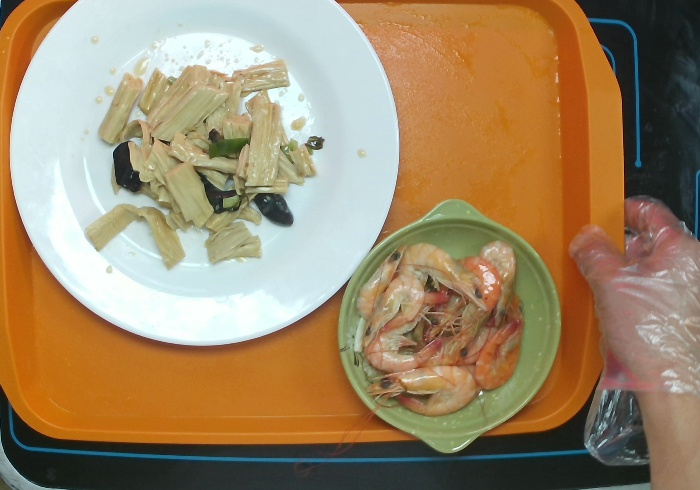NLDX-Da_Yuan_Pan: (8, 1, 397, 353)
NLDX-Lv_Hua_Shuang_Er_Die: (338, 199, 564, 454)
